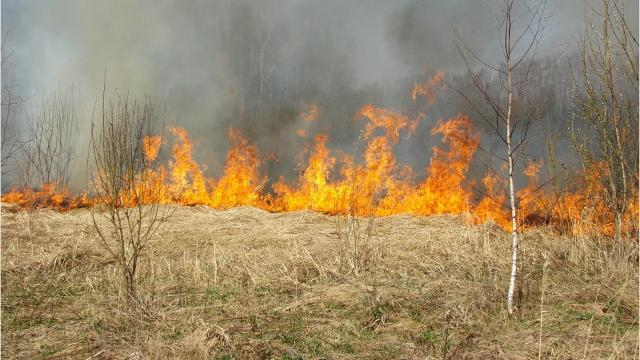fire: (405, 173, 465, 214), (306, 184, 375, 215), (169, 155, 208, 200), (218, 169, 258, 204)
smoke: (293, 7, 390, 74), (118, 7, 194, 56), (43, 4, 77, 58)
